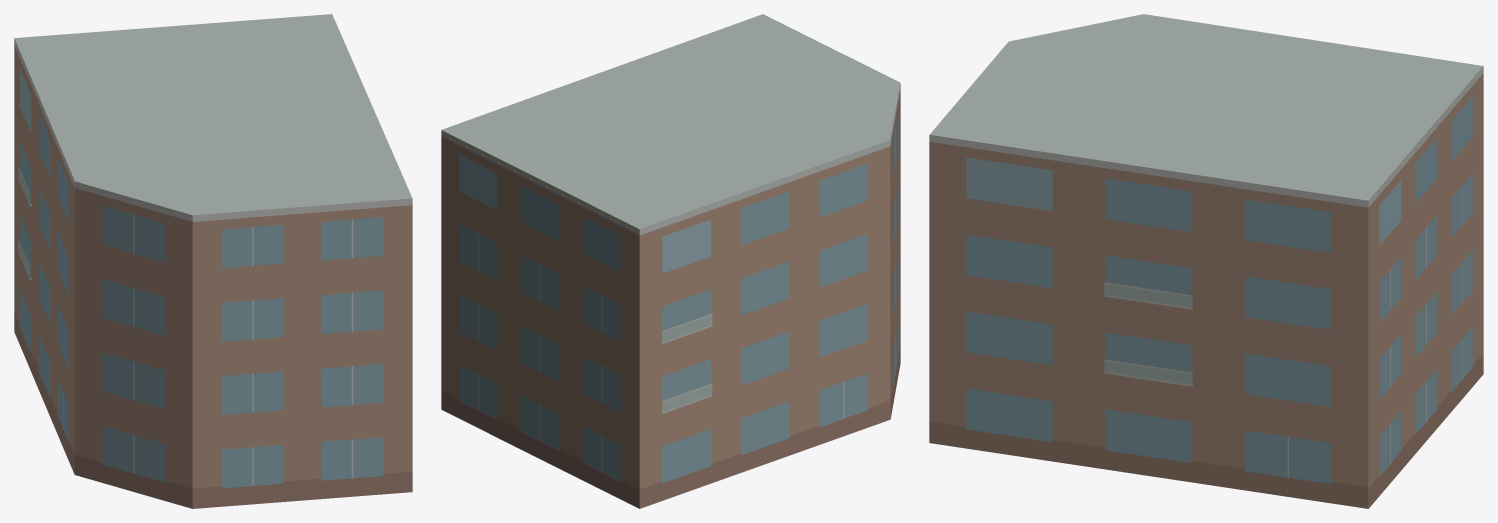
File: survey-upis-32847025.glb
The picture shows the model from 3 angles, left to right: view 1: azimuth 30°, elevation 25°; view 2: azimuth 150°, elevation 25°; view 3: azimuth 270°, elevation 25°; orthographic projection. The views are drawn at different scales.
Visible parts, largest first — view 1: survey-upis-32847025.tmp; view 2: survey-upis-32847025.tmp; view 3: survey-upis-32847025.tmp.
Boxes of the visible parts, <box> form: survey-upis-32847025.tmp: <box>14,14,412,508</box>; survey-upis-32847025.tmp: <box>441,14,900,508</box>; survey-upis-32847025.tmp: <box>929,14,1483,508</box>.
Bounding box in the file's own units: 14.04 × 10.8 × 17.61.
